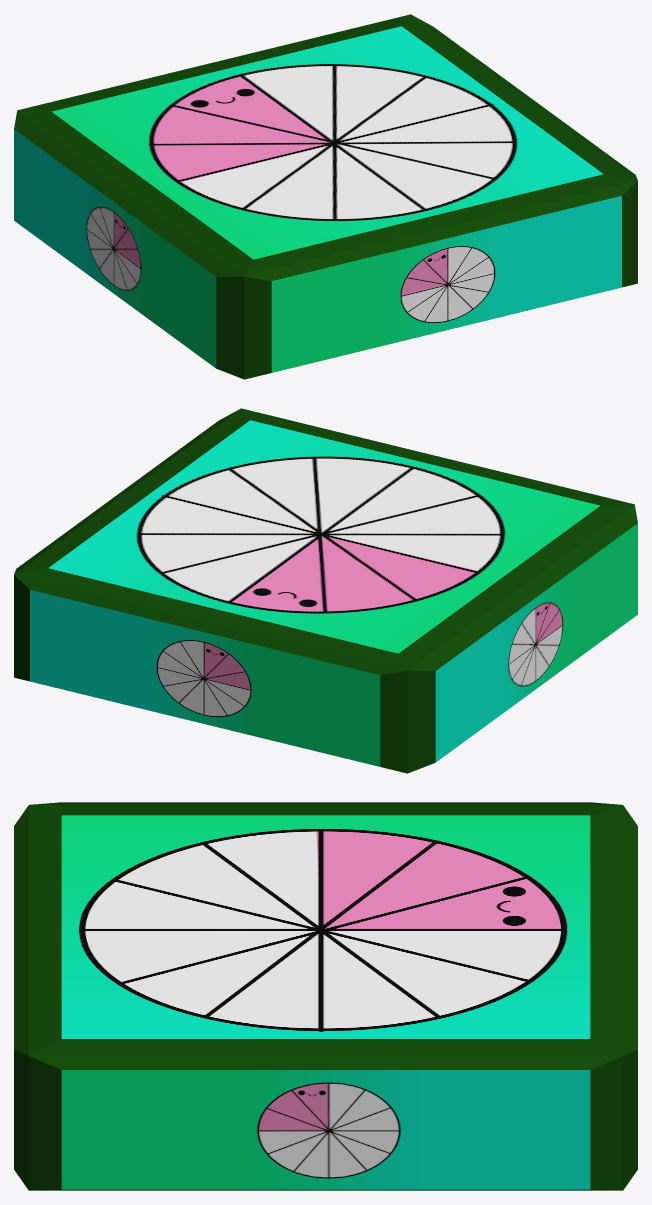
Rendered from Fracciones tres doceavos.fbx.
3 renders of one model, top to bottom at view 1: azimuth 30°, elevation 25°; view 2: azimuth 150°, elevation 25°; view 3: azimuth 270°, elevation 25°, orthographic. The views are drawn at different scales.
Parts seen in each view (by area): view 1: 3/12; view 2: 3/12; view 3: 3/12.
Boxes of the visible parts, x1,y1,x2,y2 form: 3/12: [14, 14, 637, 379]; 3/12: [14, 408, 637, 773]; 3/12: [14, 802, 637, 1190].
Bounding box in the file's own units: 213 × 52.5 × 210.
2 materials, 1 textured.
